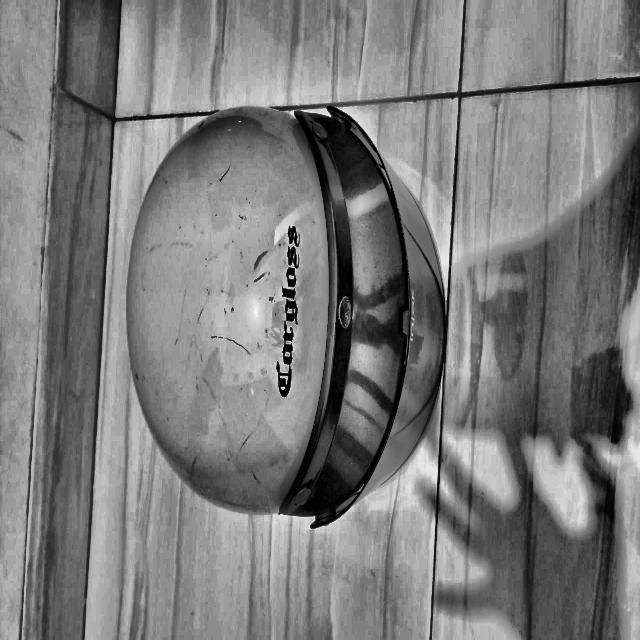Helmet: (59, 205, 318, 640)
